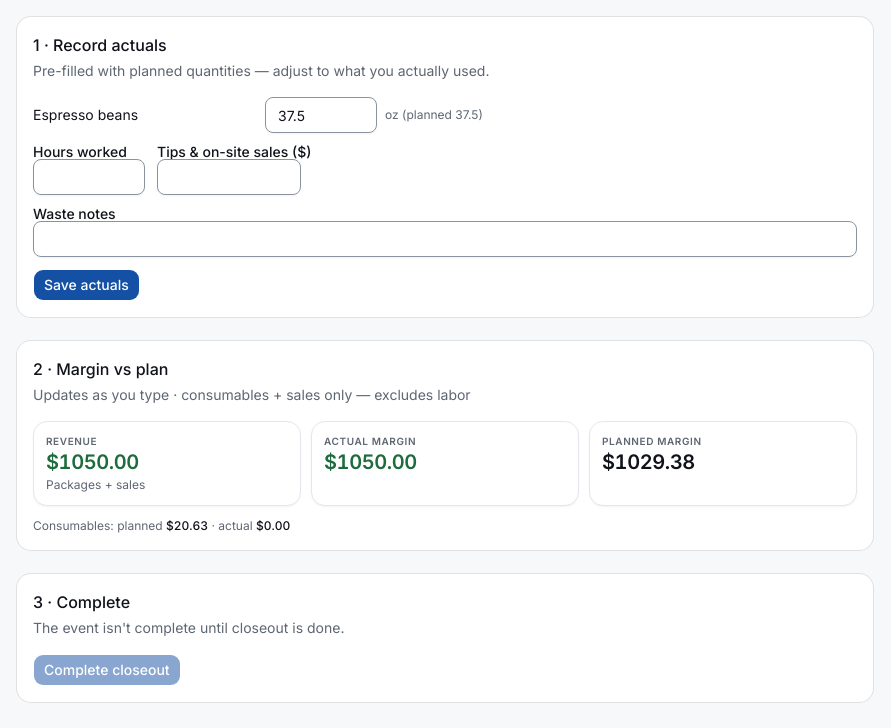
Test case: CloseoutClient delta chips › does not echo the sales input back as a revenue delta chip
Type "150" into the number field labelled "Tips & on-site sales ($)" at (229, 177), box [157,159,301,195]
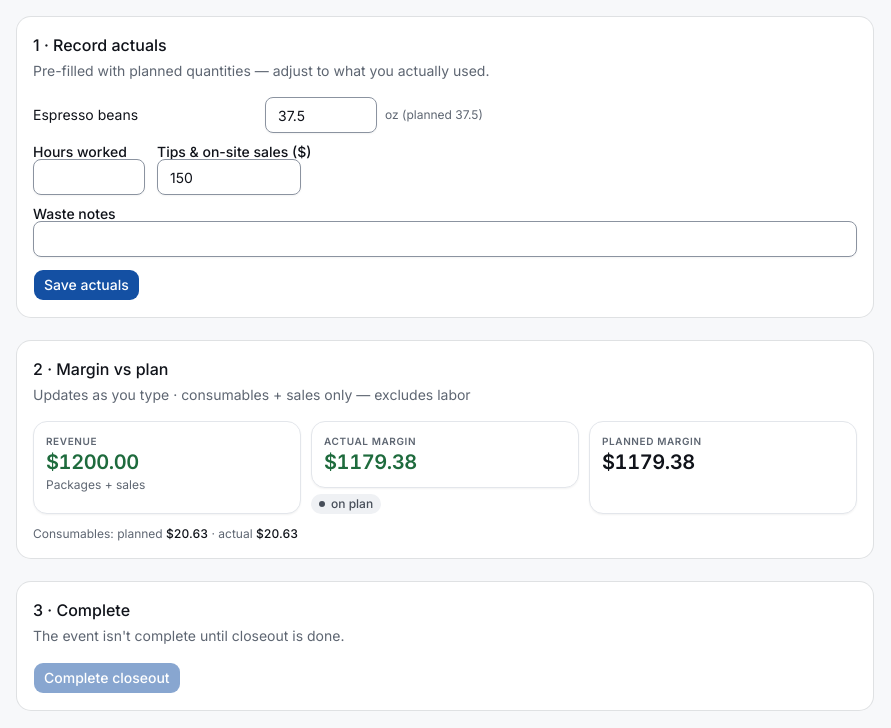
Now the text "$1200.00" is shown, box [46,450,139,474]
Now the text "on plan" is shown, box [311,494,381,514]
